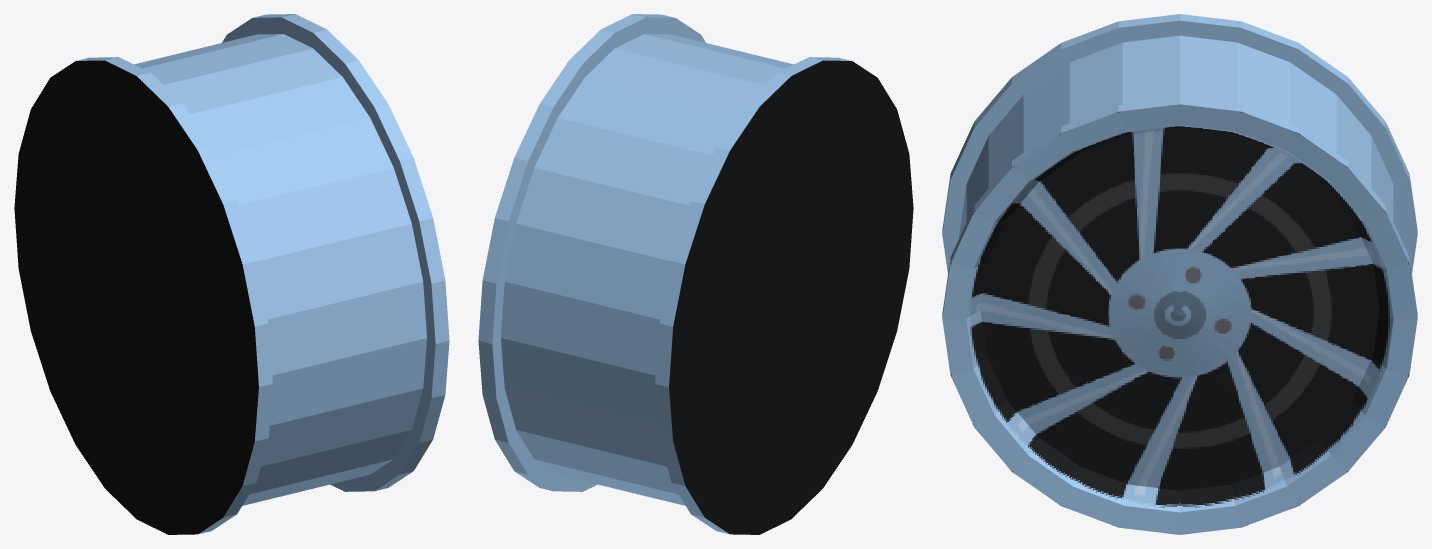
Rendered from catavento_pas_15.glb.
3 renders of one model, left to right at view 1: azimuth 30°, elevation 25°; view 2: azimuth 150°, elevation 25°; view 3: azimuth 270°, elevation 25°, orthographic. The views are drawn at different scales.
Visible parts, largest first — view 1: catavento_pas_15; view 2: catavento_pas_15; view 3: catavento_pas_15.
Part boxes in pixels (<box>): catavento_pas_15: <box>14,14,449,534</box>; catavento_pas_15: <box>478,14,913,534</box>; catavento_pas_15: <box>942,14,1417,534</box>.
Size of the model in its own units: 0.192 by 0.4267 by 0.4267.
Materials: 1 (1 with a texture image).
